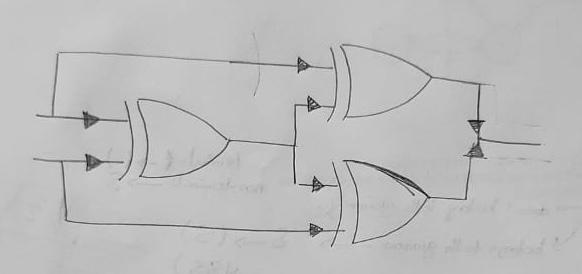XOR: (113, 89, 243, 191), (316, 38, 450, 127), (325, 150, 440, 249)
